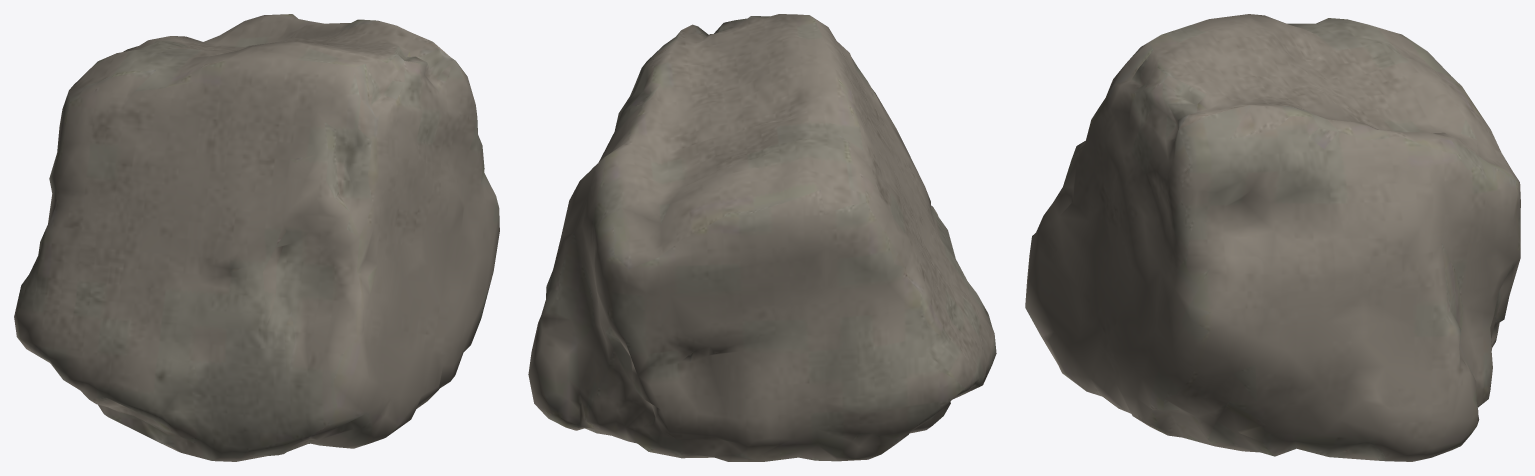
Rendered from ph-moon-rock-02.glb.
The picture shows the model from 3 angles, left to right: view 1: azimuth 30°, elevation 25°; view 2: azimuth 150°, elevation 25°; view 3: azimuth 270°, elevation 25°; orthographic projection. The views are drawn at different scales.
Parts seen in each view (by area): view 1: ph-moon-rock-02_LOD0; view 2: ph-moon-rock-02_LOD0; view 3: ph-moon-rock-02_LOD0.
Boxes of the visible parts, x1,y1,x2,y2 form: ph-moon-rock-02_LOD0: (14,14,499,461); ph-moon-rock-02_LOD0: (528,14,996,461); ph-moon-rock-02_LOD0: (1025,14,1520,461).
Size of what is drawn, in the model's own units: 0.9831 by 0.8041 by 0.9993.
Materials: 1 (1 with a texture image).
